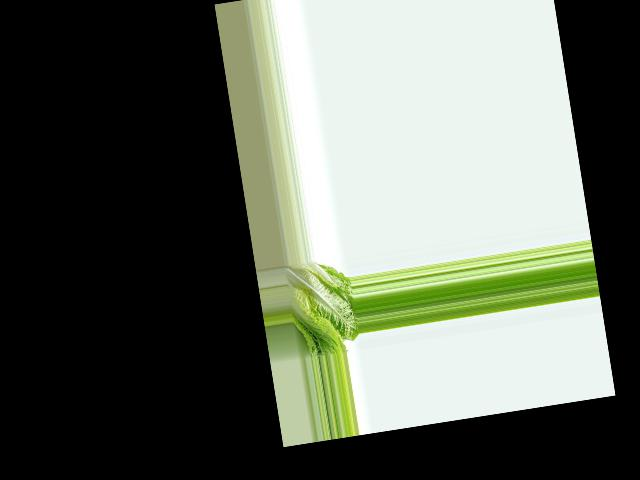lettuce: (284, 256, 360, 360)
